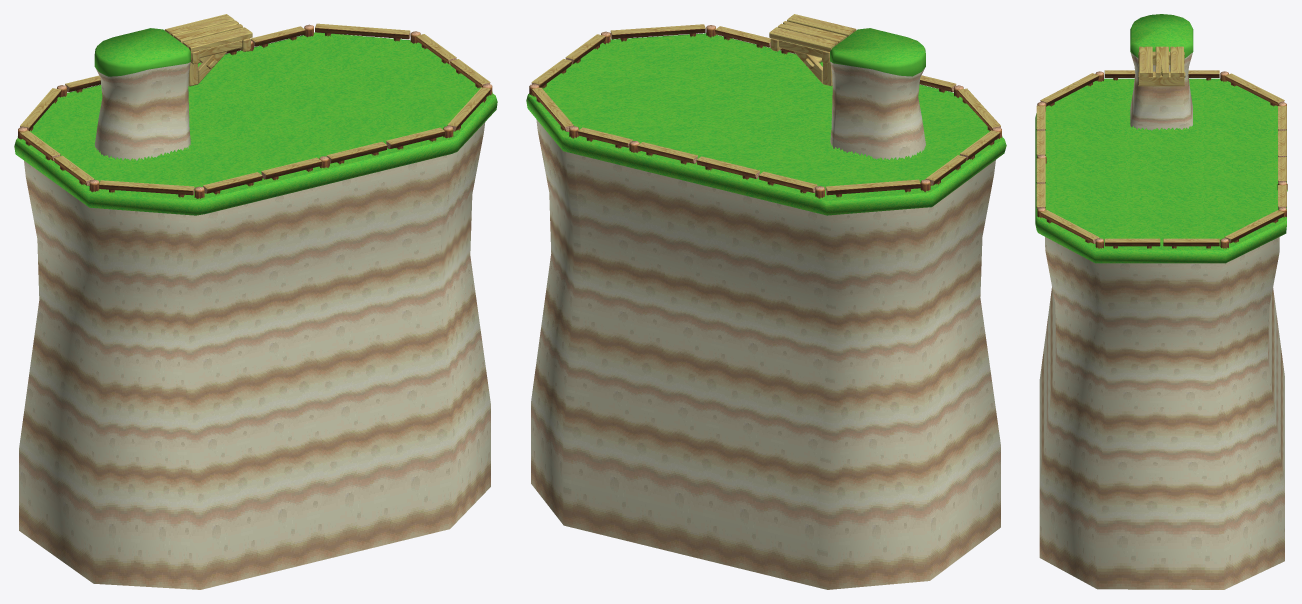
The model's file is AquariumSwimGoal.dae.
3 views of the same model, side by side, from view 1: azimuth 30°, elevation 25°; view 2: azimuth 150°, elevation 25°; view 3: azimuth 270°, elevation 25° (orthographic). The views are drawn at different scales.
Visible parts, largest first — view 1: AquariumSwimGoal (×6); view 2: AquariumSwimGoal (×6); view 3: AquariumSwimGoal (×6).
Boxes of the visible parts, x1,y1,x2,y2 form: AquariumSwimGoal (×6): [14, 14, 497, 589]; AquariumSwimGoal (×6): [526, 14, 1006, 589]; AquariumSwimGoal (×6): [1035, 14, 1287, 589].
Bounding box in the file's own units: 2618 × 2996 × 1612.
6 materials, 6 textured.
